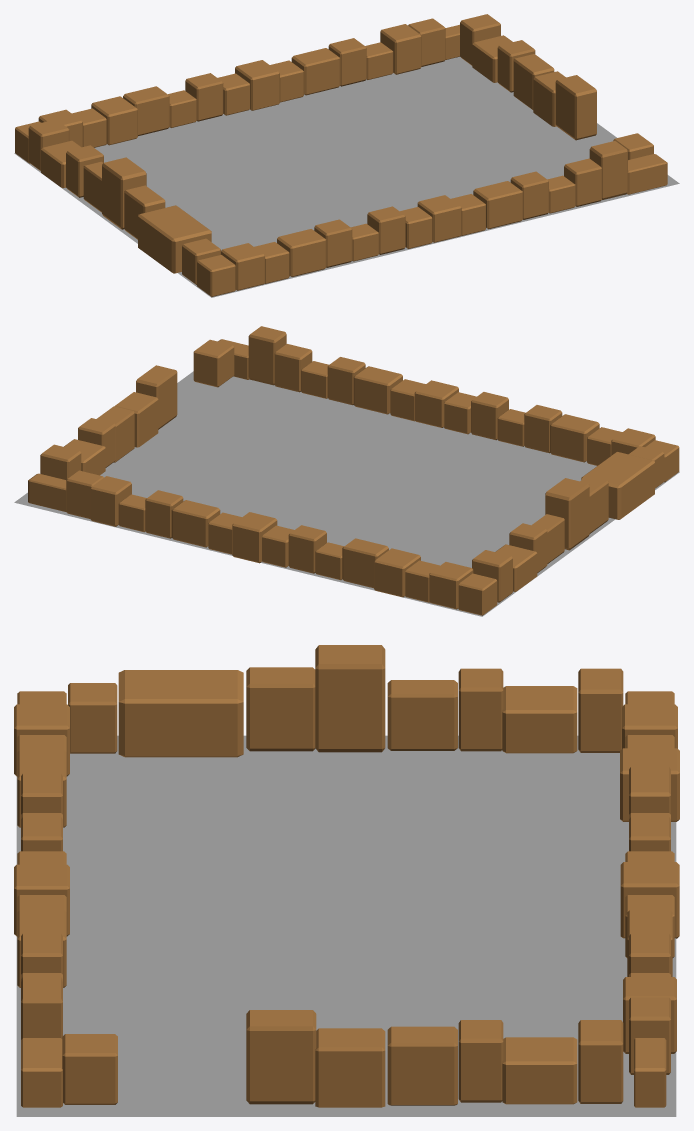
Rendered from tnk_level_scaffold.fbx.
3 views of the same model, one above another, from view 1: azimuth 30°, elevation 25°; view 2: azimuth 150°, elevation 25°; view 3: azimuth 270°, elevation 25° (orthographic). The views are drawn at different scales.
Parts seen in each view (by area): view 1: polySurface2, pPlane1; view 2: polySurface2, pPlane1; view 3: pPlane1, polySurface2.
Boxes of the visible parts, bbox=[...] form: polySurface2: bbox=[15, 14, 667, 296]; pPlane1: bbox=[14, 56, 679, 297]; polySurface2: bbox=[28, 326, 679, 615]; pPlane1: bbox=[14, 371, 679, 616]; pPlane1: bbox=[16, 735, 676, 1116]; polySurface2: bbox=[14, 645, 679, 1107].
Size of the model in its own units: 287 by 32.7 by 208.
